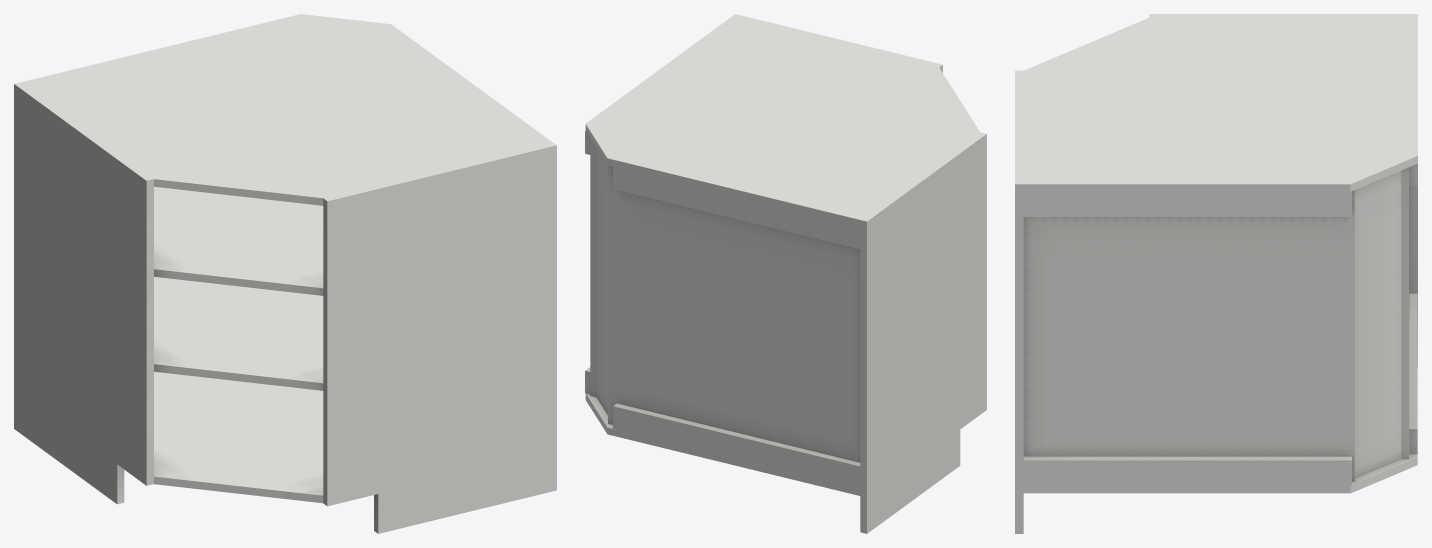
Rendered from 45-corner-base-doors-off.glb.
3 renders of one model, left to right at view 1: azimuth 30°, elevation 25°; view 2: azimuth 150°, elevation 25°; view 3: azimuth 270°, elevation 25°, orthographic. The views are drawn at different scales.
Visible parts, largest first — view 1: part_0; view 2: part_0; view 3: part_0.
Part boxes in pixels (box(x1,y1,x2,y2)): part_0: box(14, 14, 556, 533); part_0: box(585, 14, 986, 533); part_0: box(1015, 14, 1417, 533).
Size of the model in its own units: 0.9144 by 0.8763 by 0.9144.
1 material, 1 textured.
